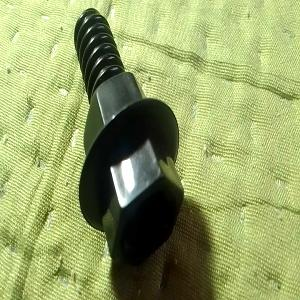parafuso: (74, 7, 185, 267)
